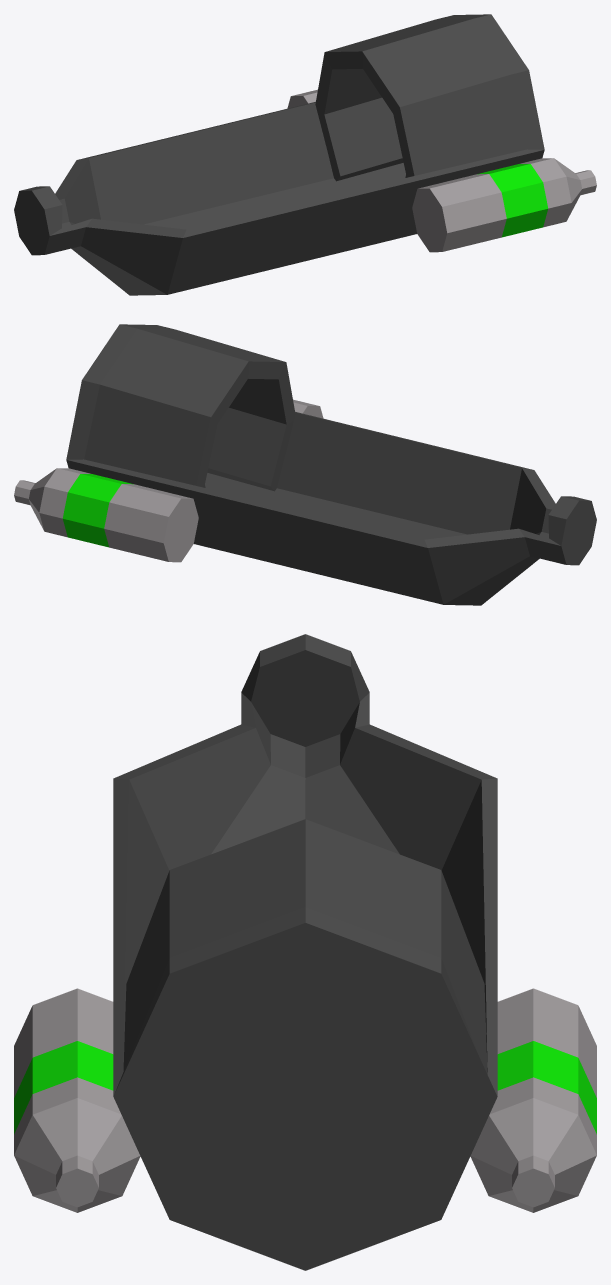
The model's file is Test_Boat2.fbx.
3 views of the same model, one above another, from view 1: azimuth 30°, elevation 25°; view 2: azimuth 150°, elevation 25°; view 3: azimuth 270°, elevation 25° (orthographic). The views are drawn at different scales.
Parts seen in each view (by area): view 1: Cylinder.001; view 2: Cylinder.001; view 3: Cylinder.001.
Boxes of the visible parts, x1,y1,x2,y2 form: Cylinder.001: [14, 14, 596, 295]; Cylinder.001: [14, 324, 596, 605]; Cylinder.001: [14, 634, 596, 1270].
Size of the model in its own units: 301 by 112 by 170.
